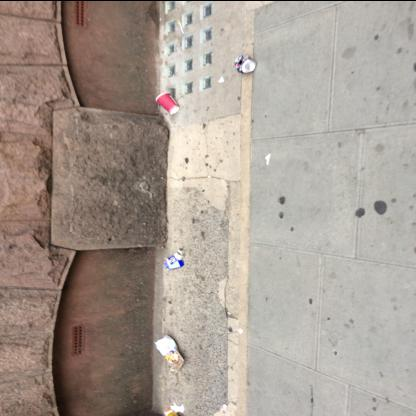kagit: (152, 333, 184, 370)
karton: (156, 92, 180, 114), (164, 247, 184, 270)
metal: (234, 54, 257, 72)
